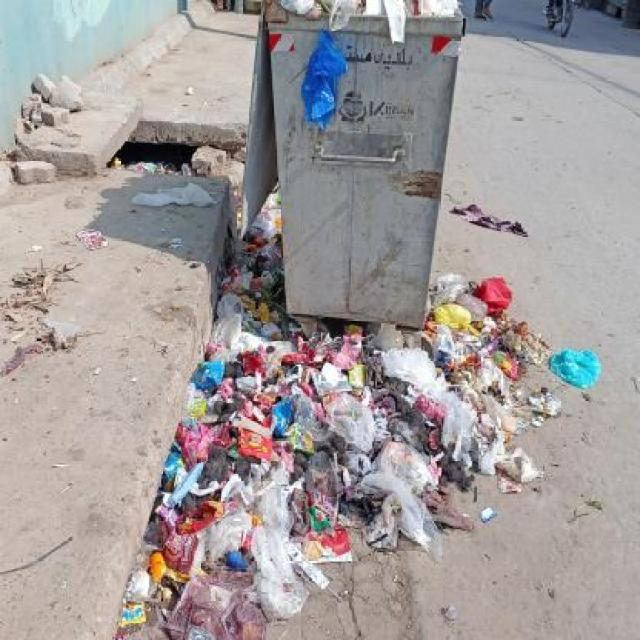garbage: (300, 322, 611, 545), (226, 226, 298, 639), (134, 342, 223, 638), (292, 28, 364, 148), (259, 0, 468, 40), (111, 145, 224, 215), (428, 268, 517, 321), (451, 199, 530, 246), (65, 214, 118, 264)
